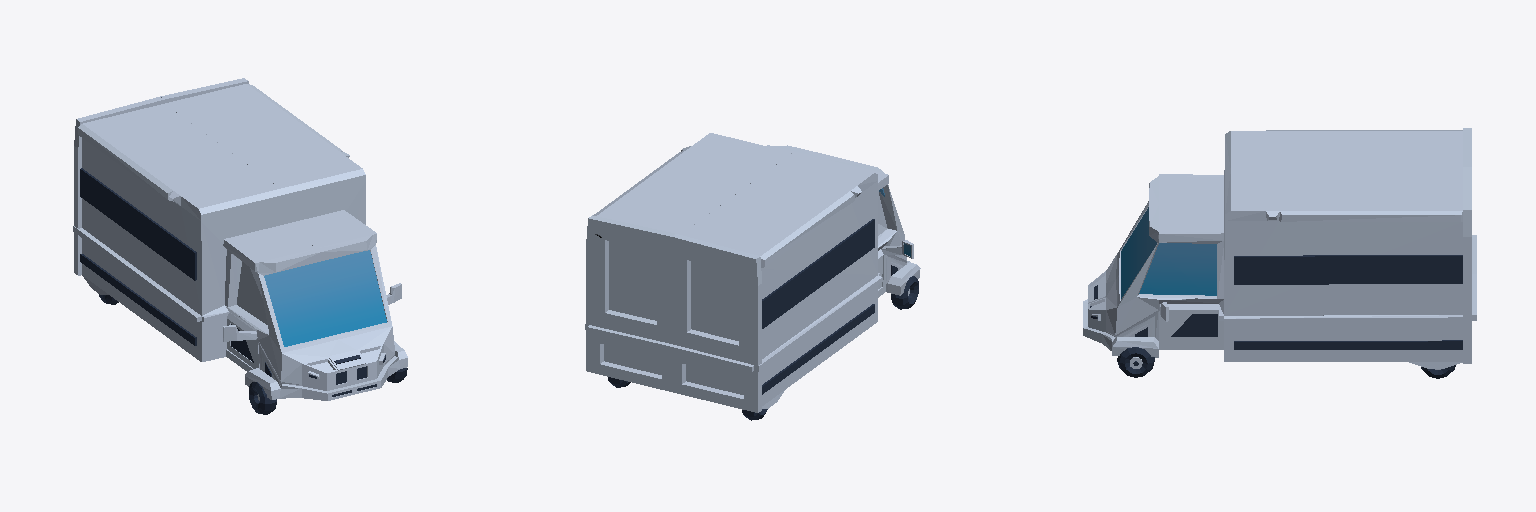
The picture shows the model from 3 angles: view 1: azimuth 30°, elevation 25°; view 2: azimuth 150°, elevation 25°; view 3: azimuth 270°, elevation 25°; orthographic projection.
Parts seen in each view (by area): view 1: CUPIC_TRUCK.032, CUPIC_TRUCK.031, CUPIC_TRUCK.048, CUPIC_TRUCK, CUPIC_TRUCK.008; view 2: CUPIC_TRUCK.032, CUPIC_TRUCK.048, CUPIC_TRUCK, CUPIC_TRUCK.008; view 3: CUPIC_TRUCK.032, CUPIC_TRUCK.047, CUPIC_TRUCK.030, CUPIC_TRUCK.049, CUPIC_TRUCK.031, CUPIC_TRUCK.035, CUPIC_TRUCK.029.
Boxes of the visible parts, box(x1,y1,x2,y2) form: CUPIC_TRUCK.032: box(73, 78, 407, 400); CUPIC_TRUCK.031: box(264, 250, 386, 346); CUPIC_TRUCK.048: box(80, 168, 196, 280); CUPIC_TRUCK: box(80, 254, 196, 345); CUPIC_TRUCK.008: box(249, 382, 276, 414); CUPIC_TRUCK.032: box(585, 133, 920, 412); CUPIC_TRUCK.048: box(762, 219, 874, 328); CUPIC_TRUCK: box(762, 304, 874, 394); CUPIC_TRUCK.008: box(891, 276, 918, 309); CUPIC_TRUCK.032: box(1083, 128, 1476, 368); CUPIC_TRUCK.047: box(1234, 255, 1462, 284); CUPIC_TRUCK.030: box(1139, 243, 1216, 295); CUPIC_TRUCK.049: box(1234, 340, 1462, 349); CUPIC_TRUCK.031: box(1121, 207, 1156, 298); CUPIC_TRUCK.035: box(1171, 314, 1217, 336); CUPIC_TRUCK.029: box(1117, 347, 1154, 377).
Bounding box in the file's own units: 2.46 × 2.35 × 4.7.
1 materials, 1 textured.